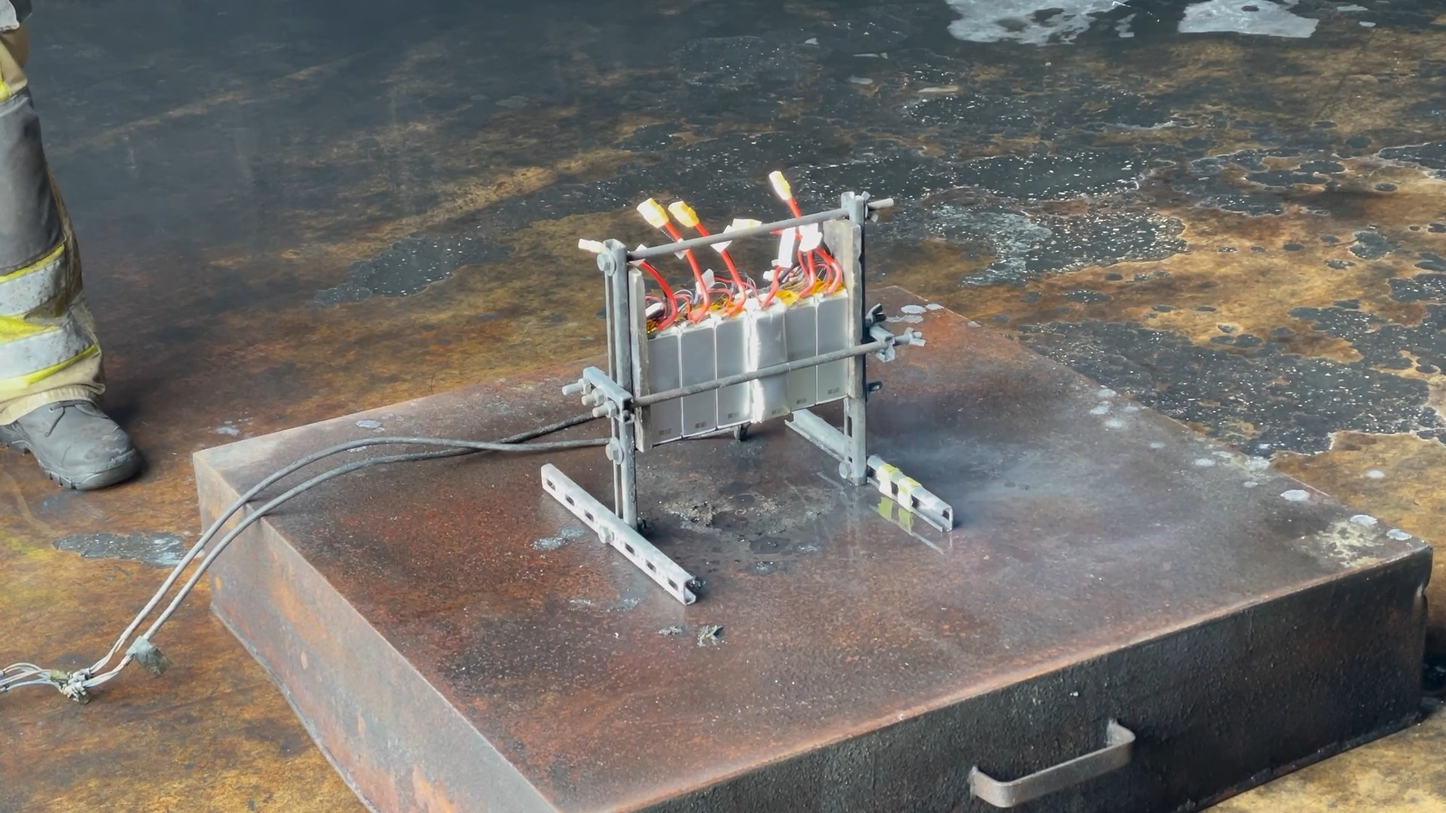smoke: (850, 306, 1222, 580)
